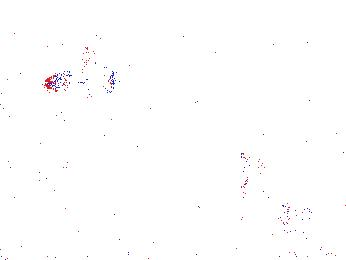flame jellyfish: (274, 172, 346, 228), (46, 57, 123, 102), (238, 152, 285, 207)
